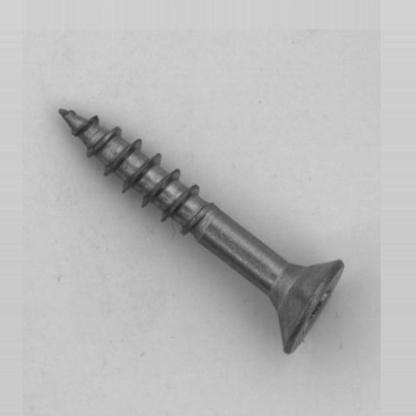metal: (57, 106, 344, 354)
